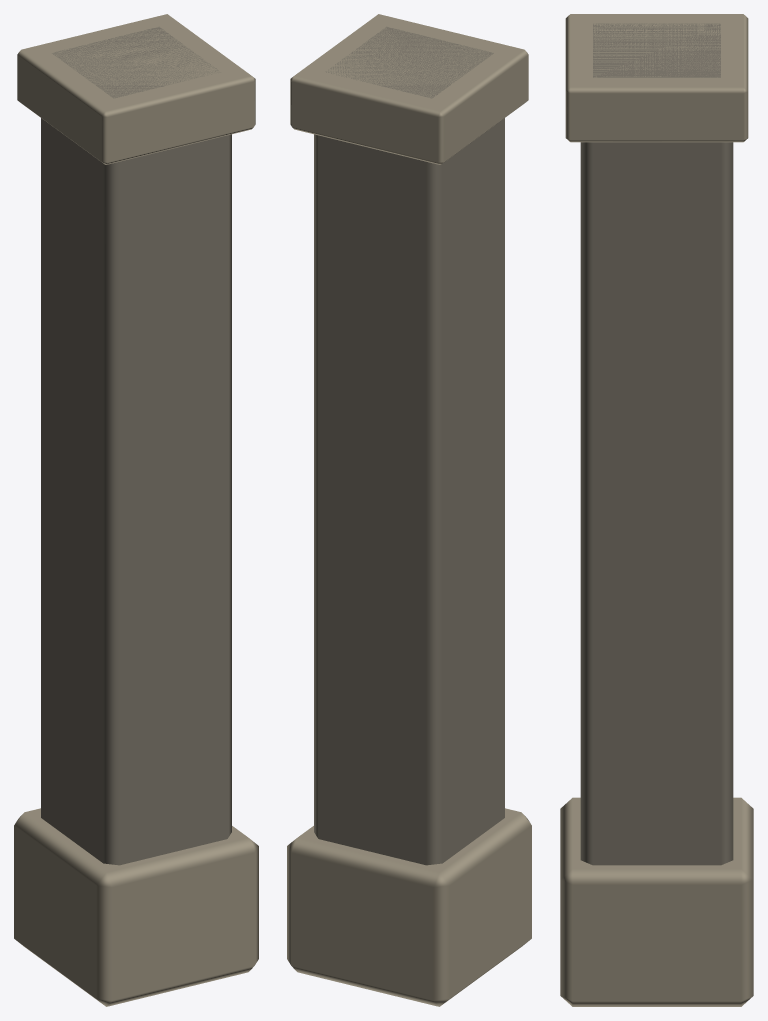
File: stone-halls-post-t.60b774af.glb
3 renders of one model, left to right at view 1: azimuth 30°, elevation 25°; view 2: azimuth 150°, elevation 25°; view 3: azimuth 270°, elevation 25°, orthographic. The views are drawn at different scales.
Visible parts, largest first — view 1: body; view 2: body; view 3: body.
Boxes of the visible parts, <box> form: body: <box>14,14,258,1006</box>; body: <box>287,14,531,1006</box>; body: <box>560,14,753,1006</box>.
Bounding box in the file's own units: 0.38 × 2 × 0.38.
